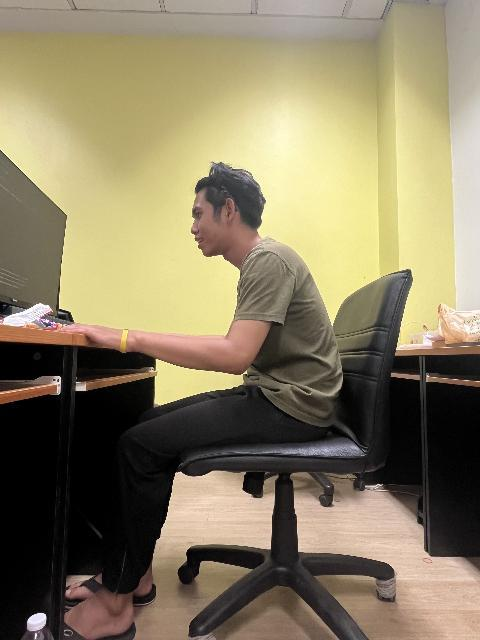bad-pose: (0, 0, 480, 640)
